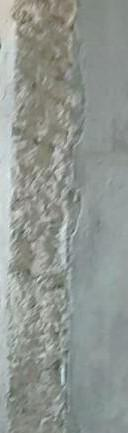Spalling: (5, 1, 87, 433)
